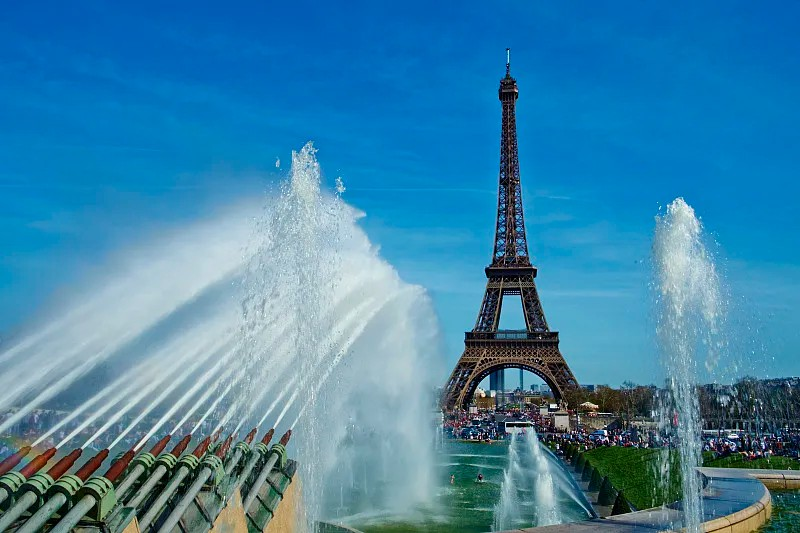Eiffel: (437, 48, 585, 416)
